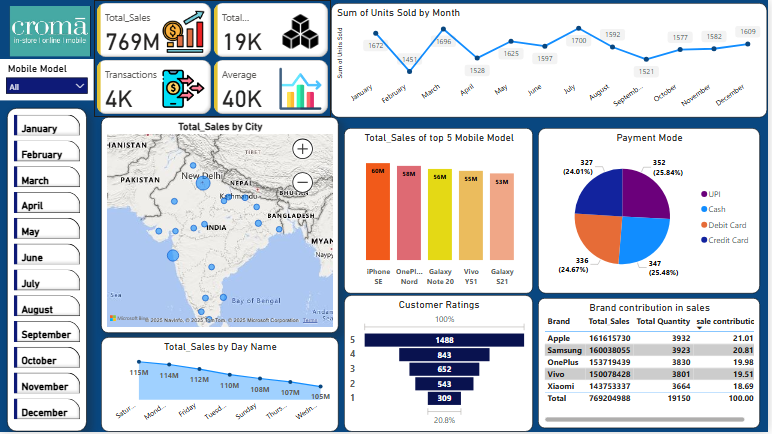

This screenshot's page, from the dashboard's own definition file:
{"tool":"powerbi","page":{"name":"Page 1","canvas":[1280,720],"ordinal":0},"visuals":[{"type":"advancedSlicerVisual","fields":{"Values":["Sheet1 (2).Date.Variation.Date Hierarchy.Month"]},"box":[11.6,180.7,133,539.3],"z":0},{"type":"cardVisual","fields":{"Data":["Sales_Data.Total_Sales","Sales_Data.Total Quantity","Sales_Data.Transactions","Sales_Data.Average"]},"box":[156.1,0,396.1,195.2],"z":1000},{"type":"map","fields":{"Category":["Sales_Data.City"],"Size":["Sales_Data.Total_Sales"]},"box":[169.2,195.2,396.1,360],"z":2000},{"type":"clusteredColumnChart","title":"Total_Sales of top 5 Mobile Model","fields":{"Category":["Sales_Data.Mobile Model"],"Y":["Sales_Data.Total_Sales"]},"box":[574,212.5,315.2,276.1],"z":3000},{"type":"lineChart","fields":{"Category":["Sales_Data.Date.Variation.Date Hierarchy.Year","Sales_Data.Date.Variation.Date Hierarchy.Month"],"Y":["Sum(Sales_Data.Units Sold)"]},"box":[552.3,4.3,727.2,190.8],"z":4000},{"type":"pieChart","title":"Payment Mode","fields":{"Category":["Sales_Data.Payment Method"],"Y":["CountNonNull(Sales_Data.Transaction ID)"]},"box":[896.4,212.5,370.1,276.1],"z":5000},{"type":"funnel","title":" Customer Ratings","fields":{"Category":["Sales_Data.Customer Ratings"],"Y":["CountNonNull(Sales_Data.Customer Ratings)"]},"box":[574,491.6,315.2,228.4],"z":6000},{"type":"areaChart","fields":{"Y":["Sales_Data.Total_Sales"],"Category":["Sales_Data.Day Name"]},"box":[169.2,562.4,396.1,157.6],"z":7000},{"type":"tableEx","title":"Brand contribution in sales","fields":{"Values":["Sales_Data.Brand","Sales_Data.Total_Sales","Sales_Data.Total Quantity","Divide(Sales_Data.Total_Sales, ScopedEval(Sales_Data.Total_Sales, []))"]},"box":[896.4,497.3,370.1,216.9],"z":8000},{"type":"image","box":[0,4.3,167.7,94],"z":9000},{"type":"slicer","fields":{"Values":["Sales_Data.Mobile Model"]},"box":[0,98.3,156.1,69.4],"z":10000}]}

Visuals, with their boxes in screenshot pixels (x1, y1, x2, y2), scaled from the page's 1280x720 canvas onto the 772x434 screenshot:
advancedSlicerVisual - Sheet1 (2).Date.Variation.Date Hierarchy.Month: locate(7, 109, 87, 433)
cardVisual - Sales_Data.Total_Sales x Sales_Data.Total Quantity: locate(94, 0, 333, 118)
map - Sales_Data.City x Sales_Data.Total_Sales: locate(102, 118, 341, 335)
"Total_Sales of top 5 Mobile Model" clusteredColumnChart: locate(346, 128, 536, 295)
lineChart - Sales_Data.Date.Variation.Date Hierarchy.Year x Sales_Data.Date.Variation.Date Hierarchy.Month: locate(333, 3, 771, 118)
"Payment Mode" pieChart: locate(541, 128, 764, 295)
" Customer Ratings" funnel: locate(346, 296, 536, 433)
areaChart - Sales_Data.Total_Sales x Sales_Data.Day Name: locate(102, 339, 341, 433)
"Brand contribution in sales" tableEx: locate(541, 300, 764, 431)
image: locate(0, 3, 101, 59)
slicer - Sales_Data.Mobile Model: locate(0, 59, 94, 101)
